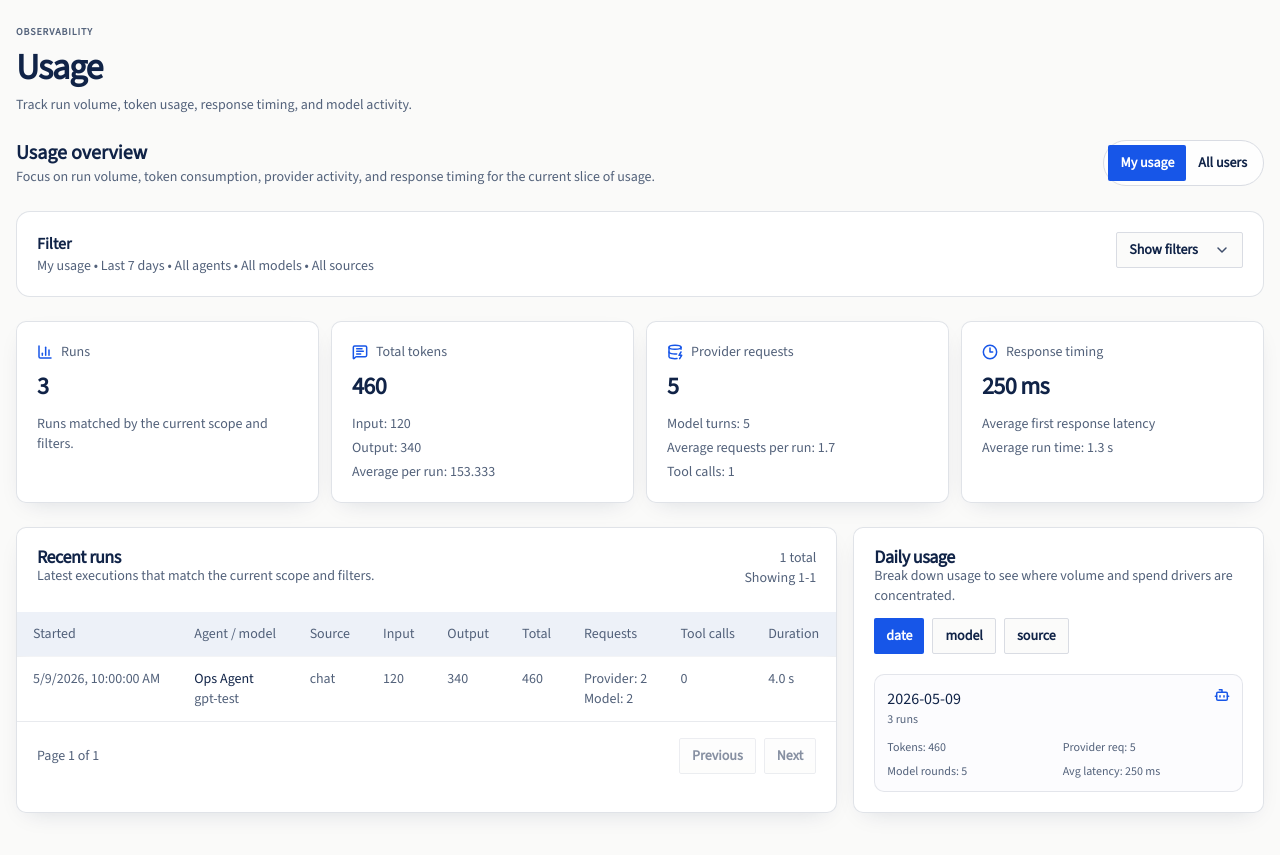
Scenario: UsagePage › shows custom datetime inputs when custom range is selected
What coordinates should you click on to do the following:
click the button "Show filters"
I would click on:
 (1180, 250)
Its box is [1116, 232, 1243, 268].
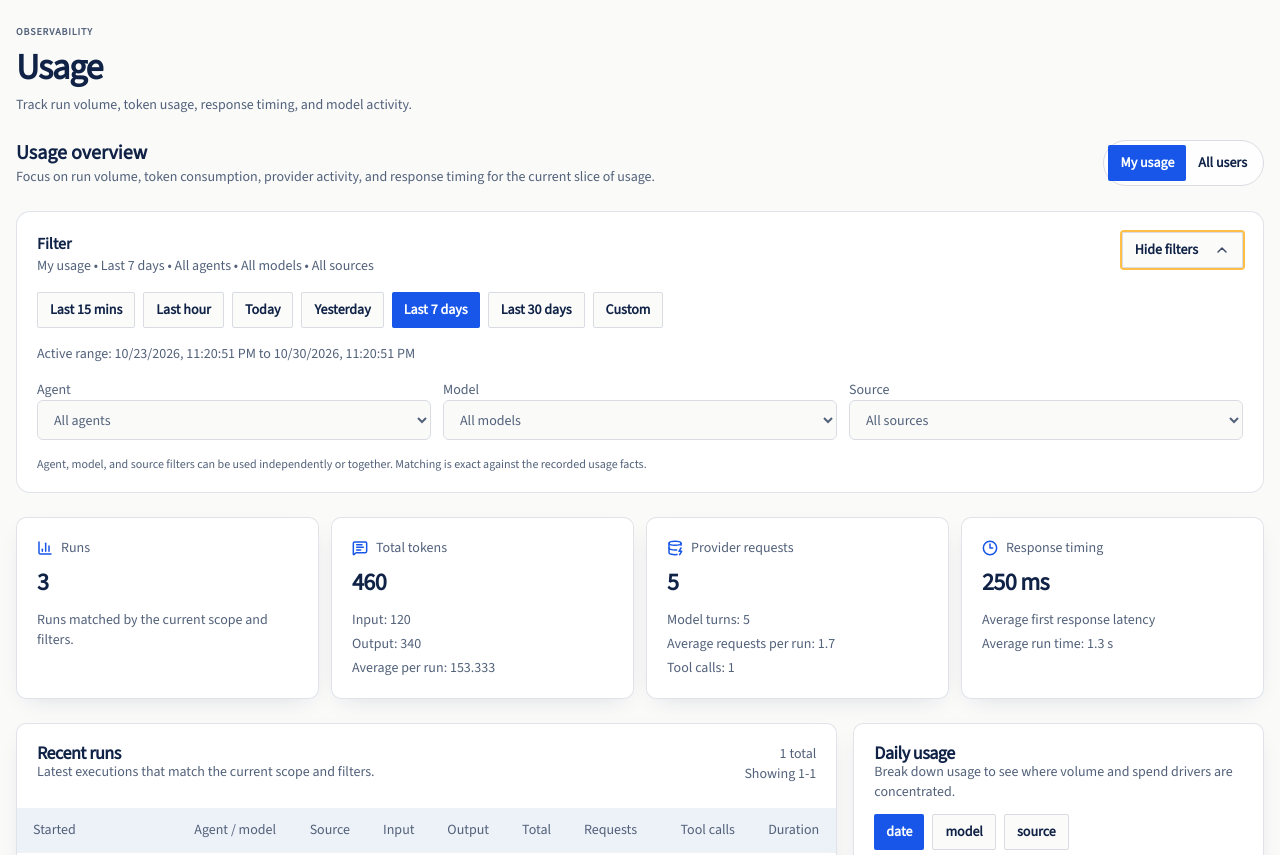
What coordinates should you click on to do the following:
click the button "Custom"
I would click on:
 (628, 310)
Its box is [593, 292, 663, 328].
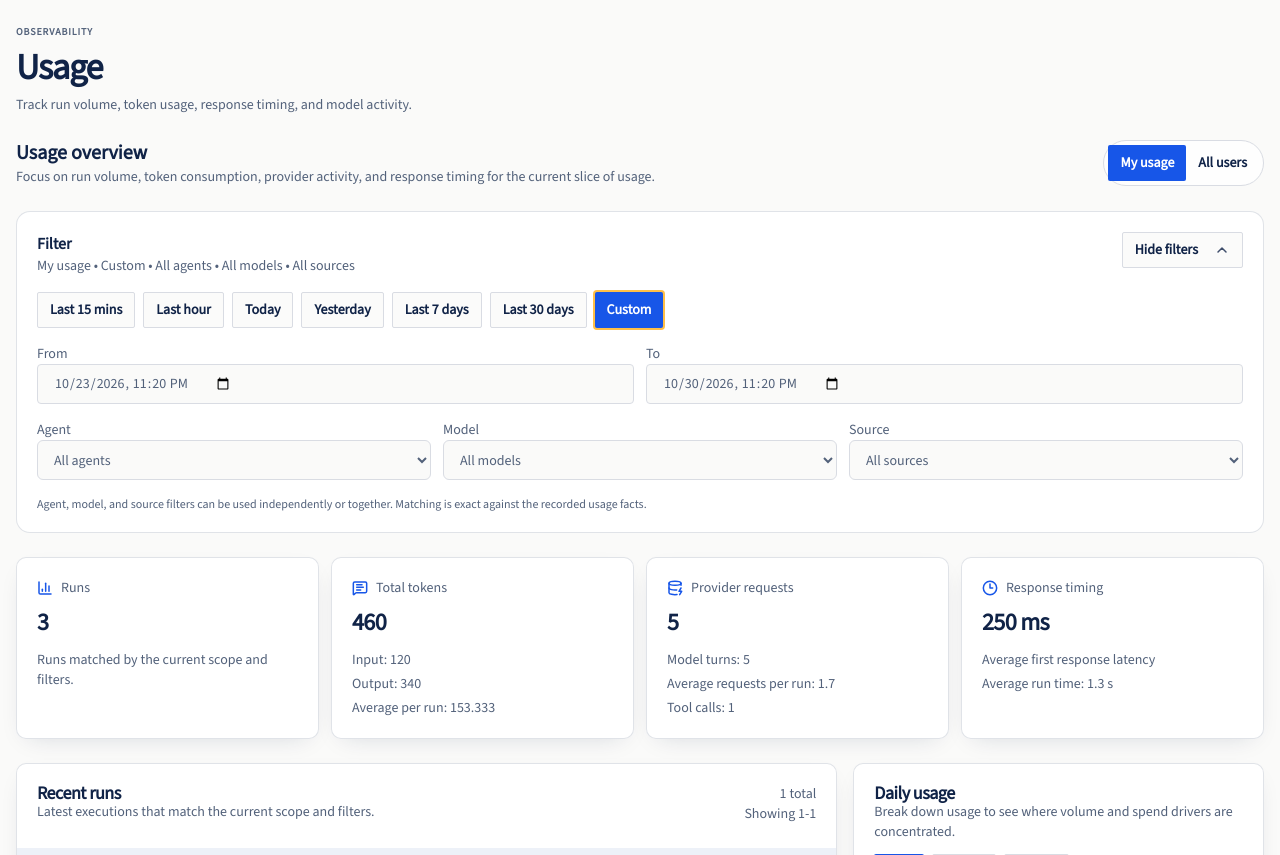
Now the field labelled "From" is shown, box [37, 364, 634, 404]
Now the field labelled "To" is shown, box [646, 364, 1243, 404]
